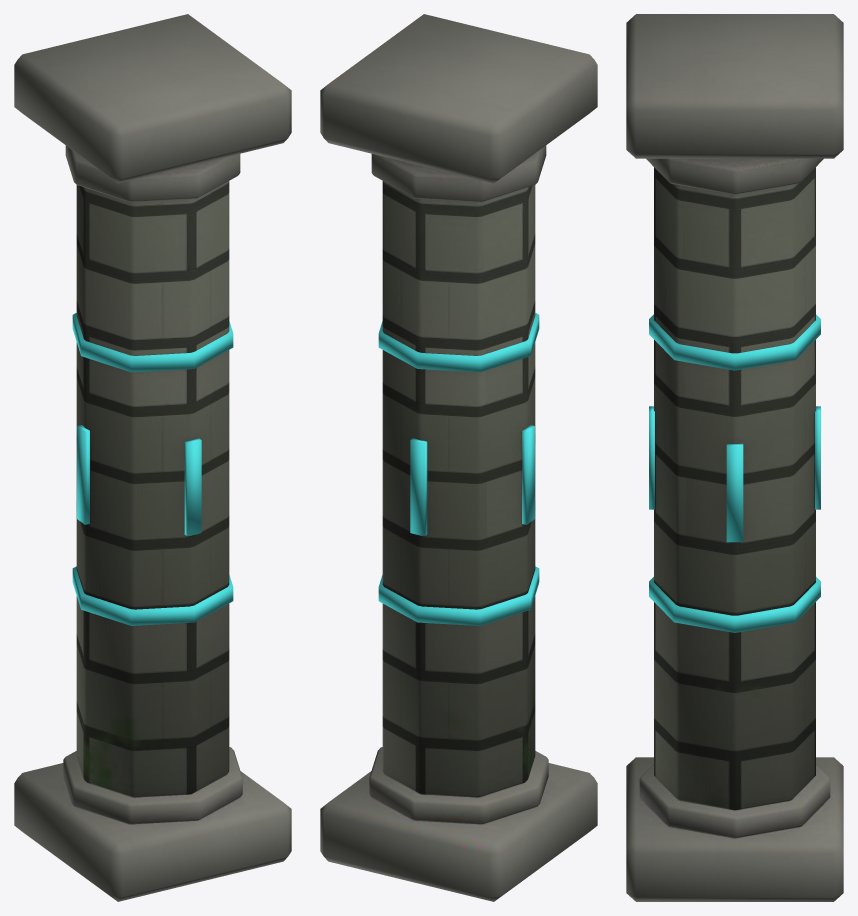
The model's file is wall_corner_column.glb.
The picture shows the model from 3 angles, left to right: view 1: azimuth 30°, elevation 25°; view 2: azimuth 150°, elevation 25°; view 3: azimuth 270°, elevation 25°; orthographic projection. The views are drawn at different scales.
Parts seen in each view (by area): view 1: wall_corner_column.001; view 2: wall_corner_column.001; view 3: wall_corner_column.001.
Part boxes in pixels (left/top/right/bottom): wall_corner_column.001: left=14, top=14, right=291, bottom=901; wall_corner_column.001: left=320, top=14, right=597, bottom=901; wall_corner_column.001: left=626, top=14, right=843, bottom=901.
Size of the model in its own units: 0.45 by 1.84 by 0.45.
1 material, 1 textured.
